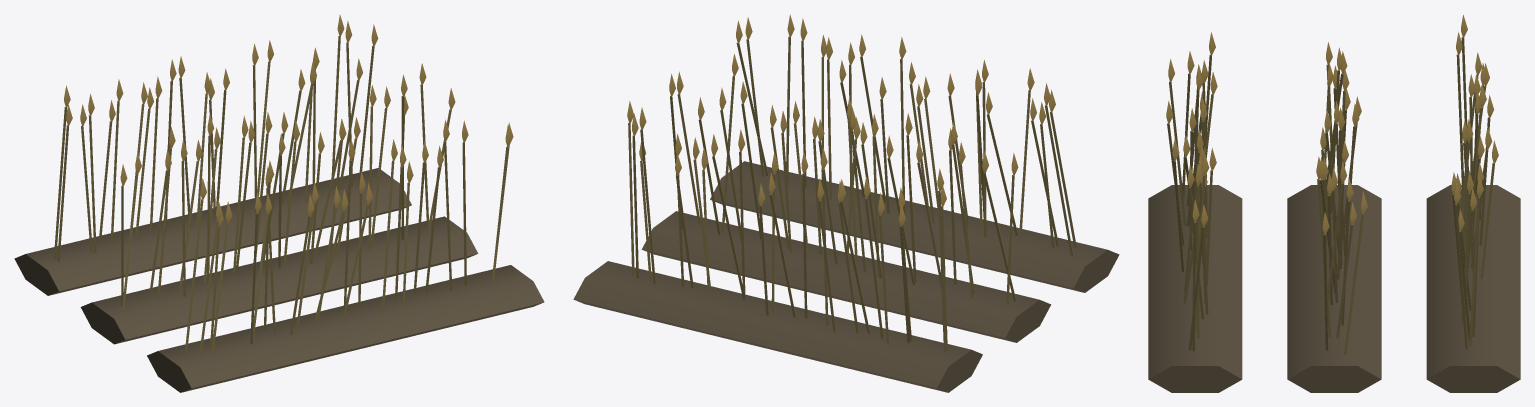
File: Crops.fbx
3 renders of one model, left to right at view 1: azimuth 30°, elevation 25°; view 2: azimuth 150°, elevation 25°; view 3: azimuth 270°, elevation 25°, orthographic. The views are drawn at different scales.
Parts seen in each view (by area): view 1: Crops; view 2: Crops; view 3: Crops.
Part boxes in pixels (left/top/right/bottom): Crops: left=14, top=14, right=544, bottom=392; Crops: left=573, top=14, right=1119, bottom=392; Crops: left=1148, top=15, right=1520, bottom=392.
Size of the model in its own units: 2 by 1.09 by 1.74.
